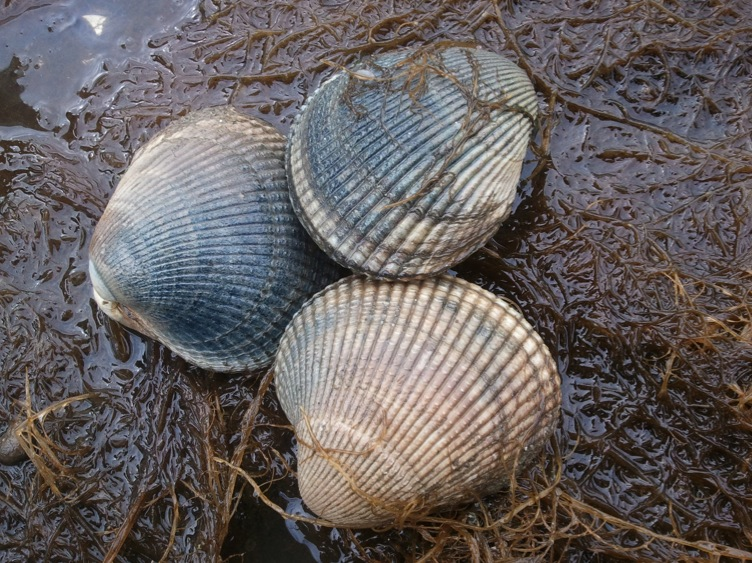cockle: (273, 265, 569, 527), (82, 105, 334, 371), (289, 41, 547, 283)
